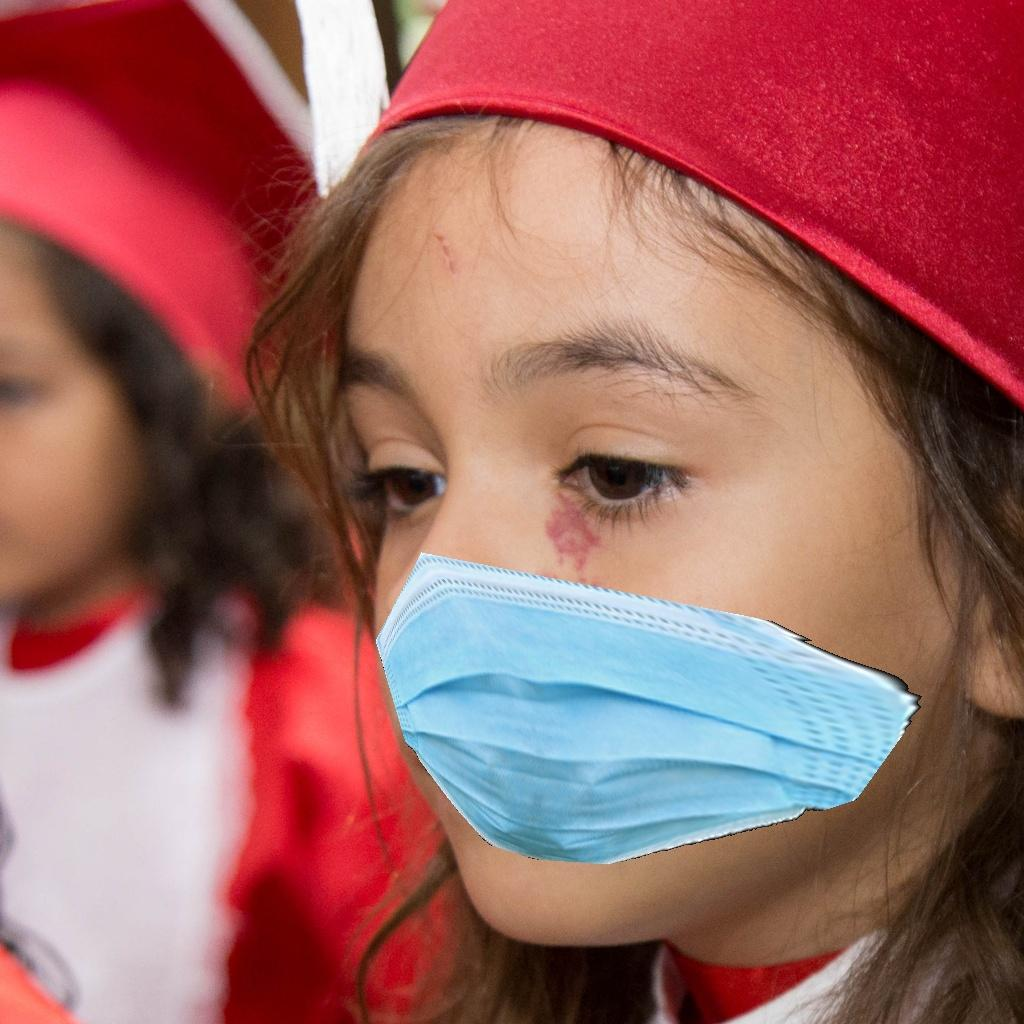Máscara Incorreta: (350, 270, 946, 896)
